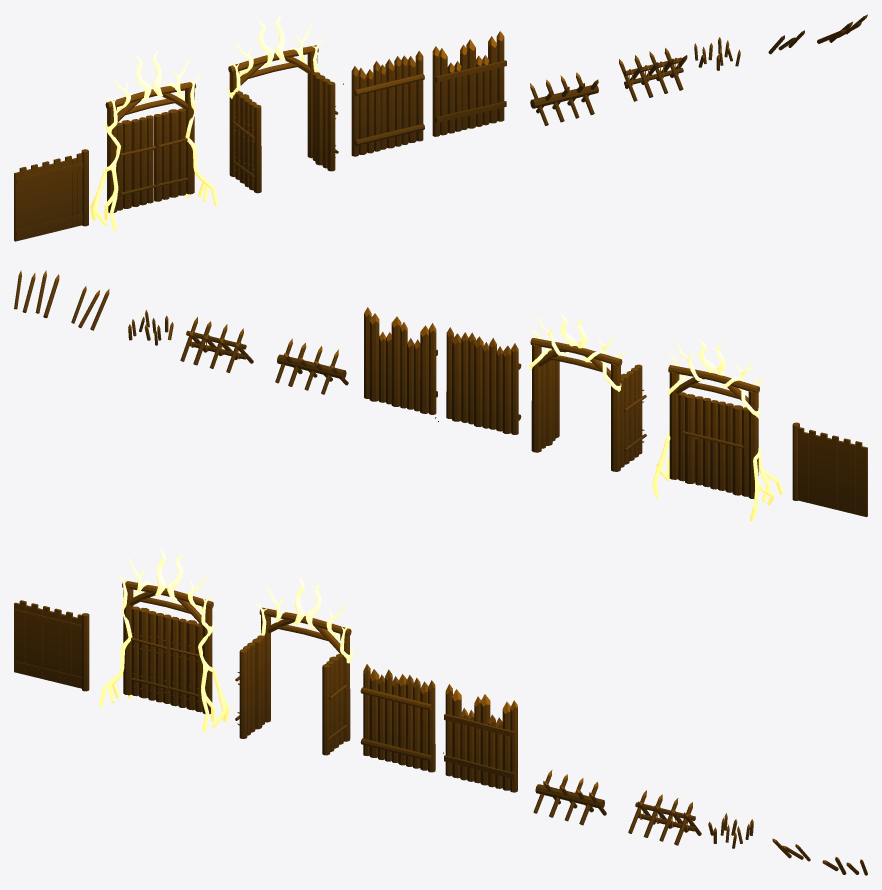
The model's file is muros.fbx.
The picture shows the model from 3 angles, top to bottom: view 1: azimuth 30°, elevation 25°; view 2: azimuth 150°, elevation 25°; view 3: azimuth 330°, elevation 25°; orthographic projection.
Visible parts, largest first — view 1: PallisadeWall_01_Cylinder.147, PallisadeWall_01_Cylinder.237, PallisadeWall_01_Cylinder.003, PallisadeWall_01_Cylinder.349, PallisadeWall_01_Cylinder.083, PallisadeWall_01_Cylinder.043, PallisadeWall_01_Cylinder.023, PallisadeWall_01_Cylinder.072; view 2: PallisadeWall_01_Cylinder.147, PallisadeWall_01_Cylinder.237, PallisadeWall_01_Cylinder.003, PallisadeWall_01_Cylinder.349, PallisadeWall_01_Cylinder.083, PallisadeWall_01_Cylinder.043, PallisadeWall_01_Cylinder.023, PallisadeWall_01_Cylinder.390, PallisadeWall_01_Cylinder.072, PallisadeWall_01_Cylinder.370; view 3: PallisadeWall_01_Cylinder.147, PallisadeWall_01_Cylinder.237, PallisadeWall_01_Cylinder.003, PallisadeWall_01_Cylinder.349, PallisadeWall_01_Cylinder.083, PallisadeWall_01_Cylinder.043, PallisadeWall_01_Cylinder.023.
Boxes of the visible parts, <box> form: PallisadeWall_01_Cylinder.147: <box>90,51,217,230</box>; PallisadeWall_01_Cylinder.237: <box>227,16,338,193</box>; PallisadeWall_01_Cylinder.003: <box>351,51,424,156</box>; PallisadeWall_01_Cylinder.349: <box>432,31,506,136</box>; PallisadeWall_01_Cylinder.083: <box>14,149,88,241</box>; PallisadeWall_01_Cylinder.043: <box>619,48,687,101</box>; PallisadeWall_01_Cylinder.023: <box>530,72,598,125</box>; PallisadeWall_01_Cylinder.072: <box>694,37,740,70</box>; PallisadeWall_01_Cylinder.147: <box>652,339,782,520</box>; PallisadeWall_01_Cylinder.237: <box>528,314,646,471</box>; PallisadeWall_01_Cylinder.003: <box>446,327,521,434</box>; PallisadeWall_01_Cylinder.349: <box>364,307,437,414</box>; PallisadeWall_01_Cylinder.083: <box>792,422,867,516</box>; PallisadeWall_01_Cylinder.043: <box>180,317,253,372</box>; PallisadeWall_01_Cylinder.023: <box>275,338,348,394</box>; PallisadeWall_01_Cylinder.390: <box>14,270,59,317</box>; PallisadeWall_01_Cylinder.072: <box>128,310,173,345</box>; PallisadeWall_01_Cylinder.370: <box>71,286,109,330</box>; PallisadeWall_01_Cylinder.147: <box>99,549,229,732</box>; PallisadeWall_01_Cylinder.237: <box>235,578,353,755</box>; PallisadeWall_01_Cylinder.003: <box>360,664,435,772</box>; PallisadeWall_01_Cylinder.349: <box>444,684,517,792</box>; PallisadeWall_01_Cylinder.083: <box>14,600,89,691</box>; PallisadeWall_01_Cylinder.043: <box>628,790,701,845</box>; PallisadeWall_01_Cylinder.023: <box>533,770,606,825</box>.
Size of the model in its own units: 3722 by 675 by 286.
1 material, 1 textured.
